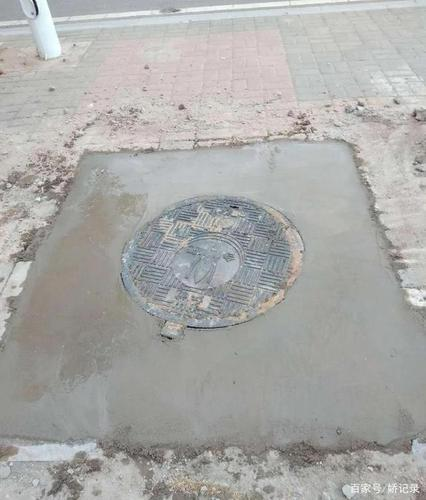good: (12, 136, 411, 464)
